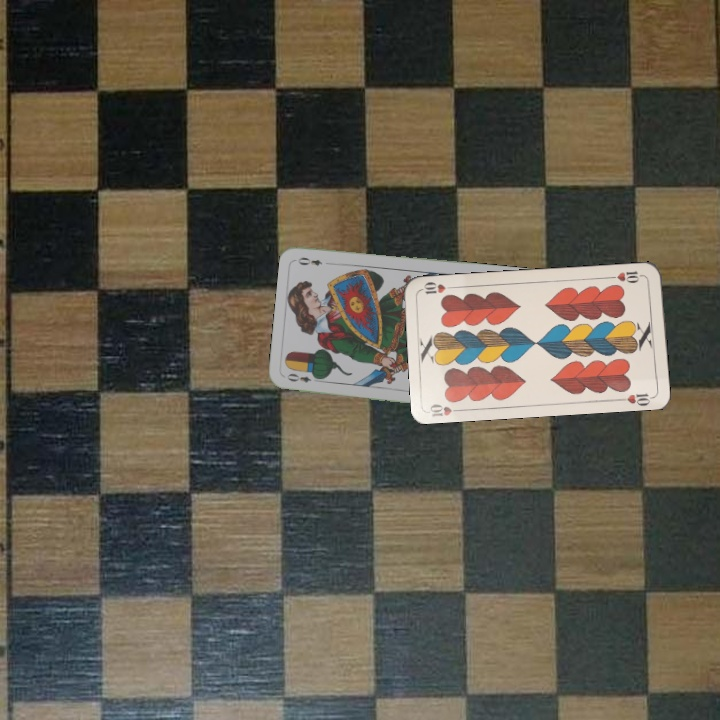EO: (283, 369, 323, 385)
H10: (426, 400, 466, 419), (606, 267, 647, 285)
